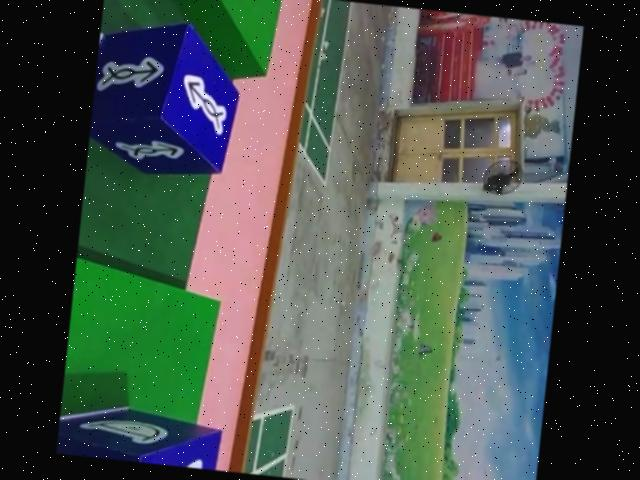R2 Real Blue: (86, 17, 243, 184), (56, 399, 227, 471)
